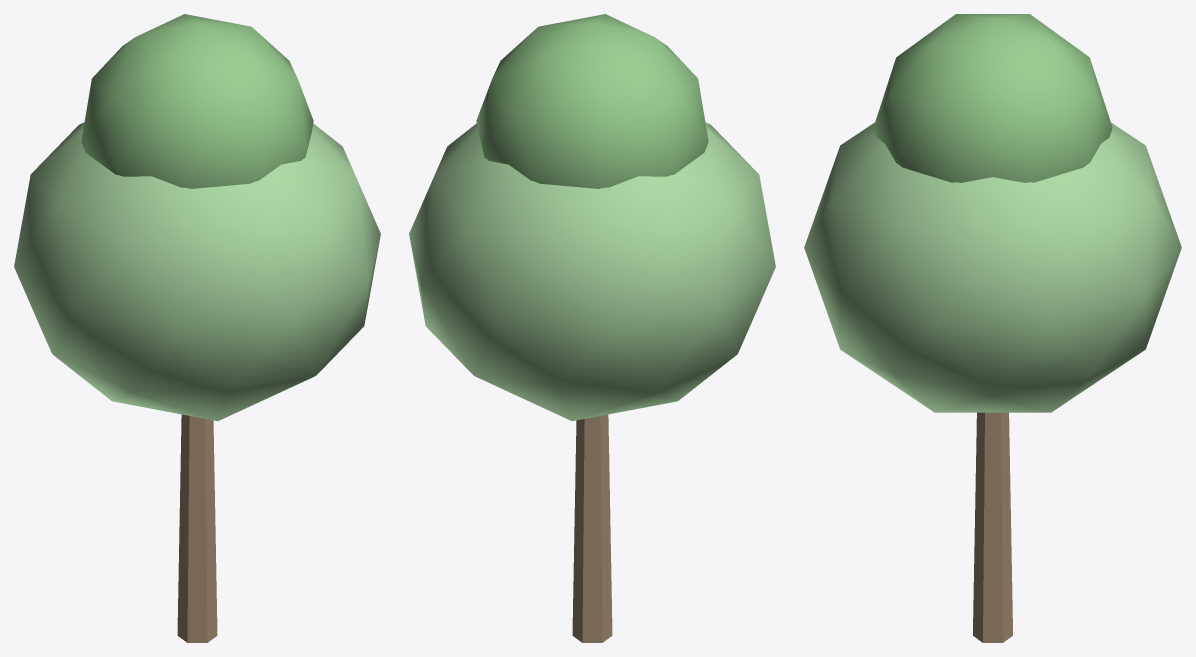
The model's file is tree_round.glb.
3 views of the same model, side by side, from view 1: azimuth 30°, elevation 25°; view 2: azimuth 150°, elevation 25°; view 3: azimuth 270°, elevation 25° (orthographic).
Visible parts, largest first — view 1: Body; view 2: Body; view 3: Body.
Boxes of the visible parts, left/top/right/bottom form: Body: left=14, top=14, right=380, bottom=642; Body: left=409, top=14, right=775, bottom=642; Body: left=804, top=14, right=1181, bottom=642.
Bounding box in the file's own units: 2.85 × 5.4 × 3.
